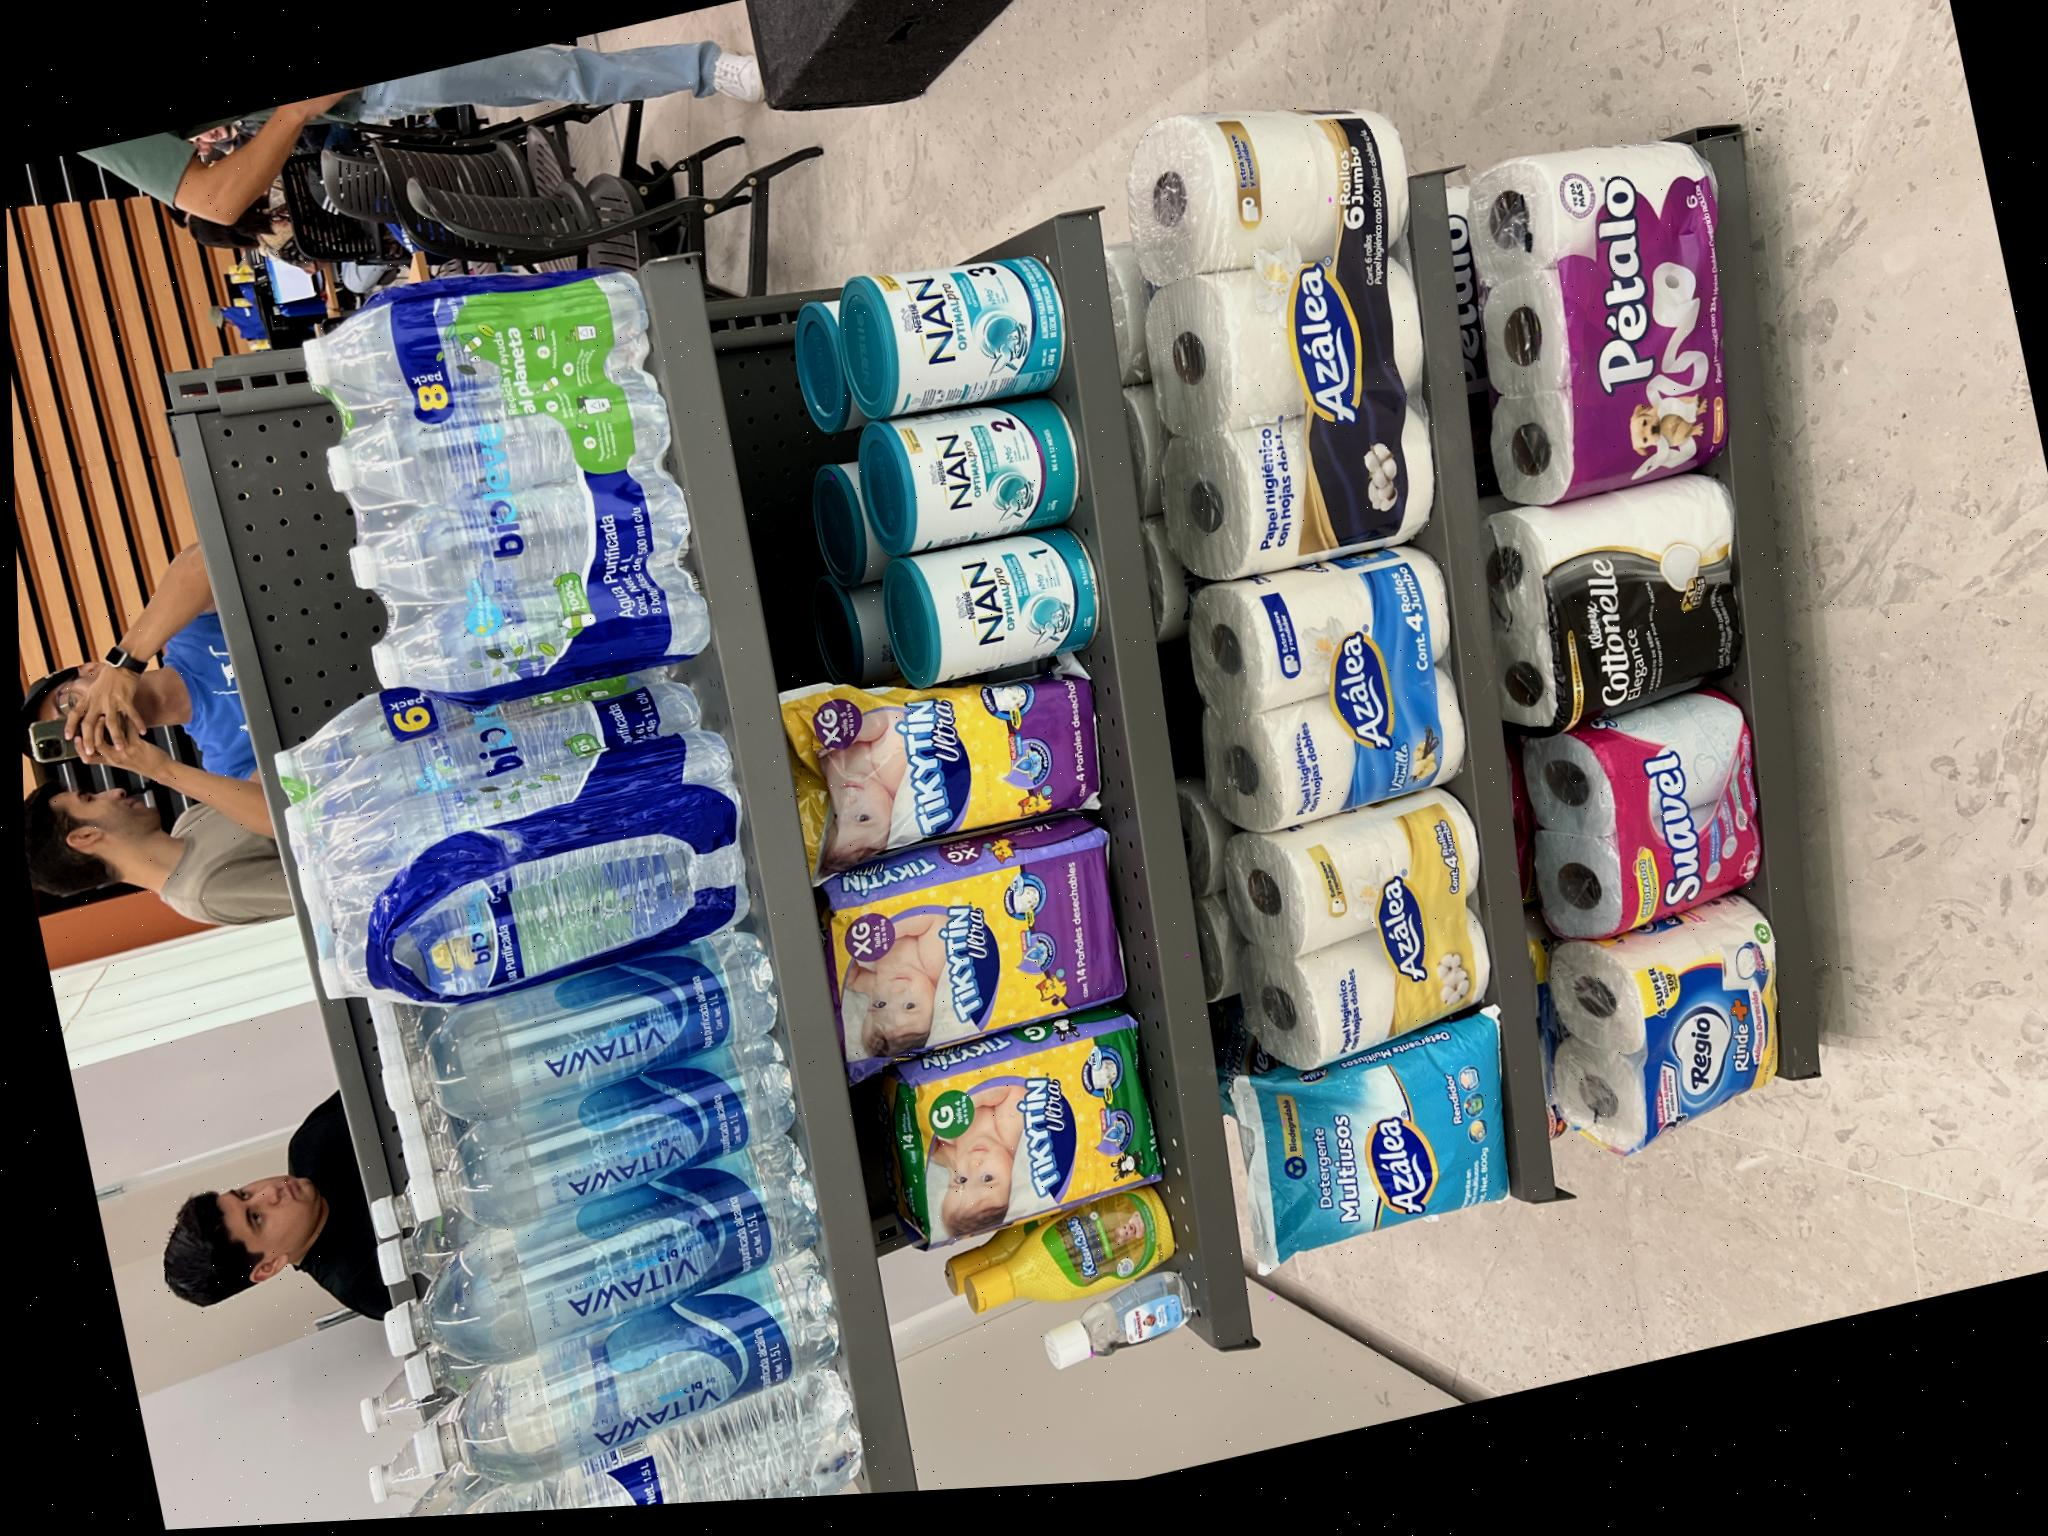aceite_bebe_mennen: (177, 1016, 298, 1192)
agua_bioleve: (11, 376, 205, 862)
agua_bioleve_6pack: (884, 279, 1305, 678), (568, 260, 908, 736)
agua_vitawa_1L: (440, 349, 648, 774), (334, 382, 535, 791)
agua_vitawa_1_5L: (182, 358, 445, 823), (76, 395, 331, 841)
nan_nestle_1: (880, 862, 1039, 1073)
nan_nestle_2: (1014, 850, 1176, 1057)
nan_nestle_3: (1150, 826, 1319, 1039)
panales_tikytin_extragrande: (697, 771, 913, 1115), (500, 807, 727, 1121)
panales_tikytin_grande: (318, 891, 552, 1157)
papelhigenico_azaela_6rollos: (995, 1149, 1447, 1407)
papelhigenico_azaela_amarillo: (493, 1242, 768, 1475)
papelhigenico_azaela_azul: (290, 1218, 542, 1496), (737, 1218, 1001, 1446)
shampoo_bebe: (231, 939, 381, 1170)
